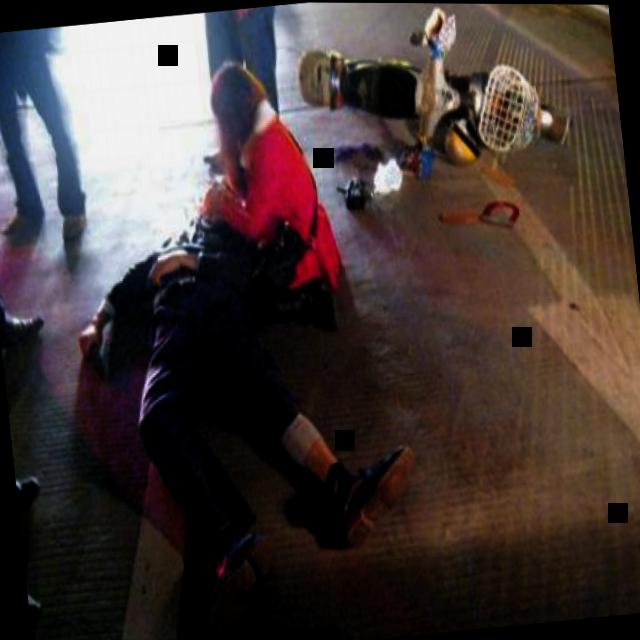Fall-Detected: (59, 163, 442, 638)
